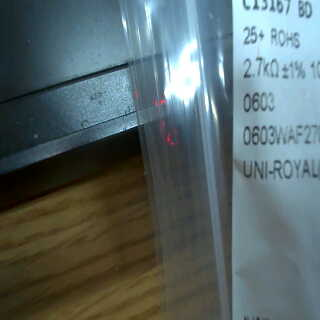2.7kR: (239, 54, 281, 84)
